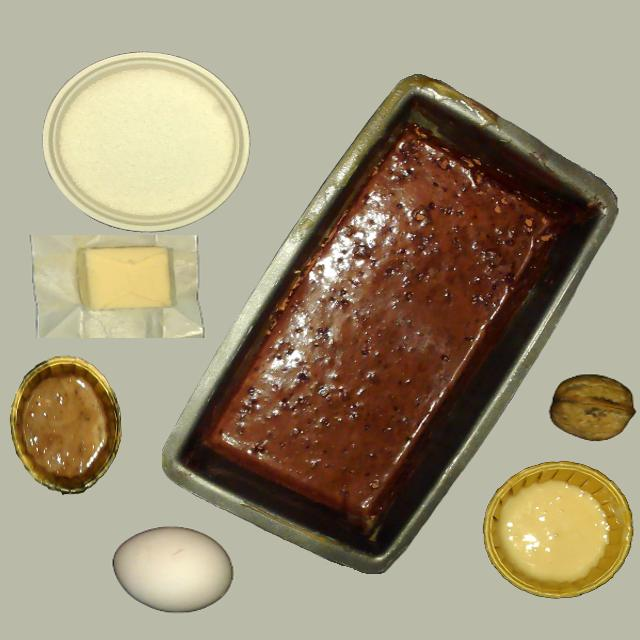Sugar: (45, 53, 246, 231)
Walnut: (542, 352, 640, 446)
